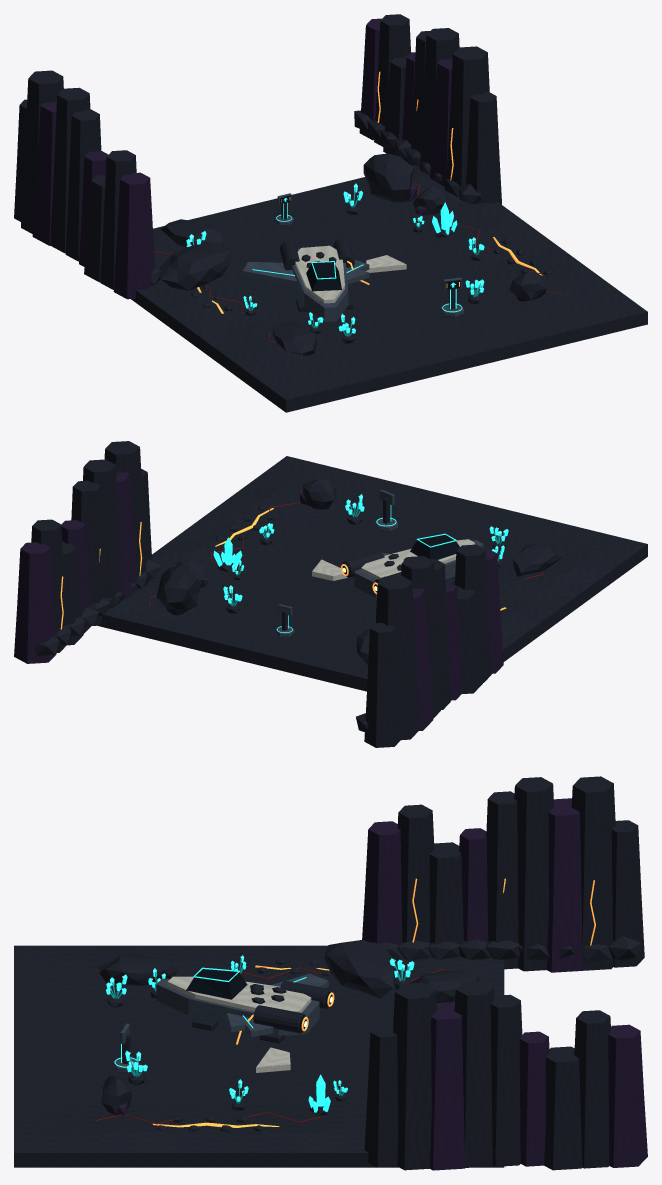
The model's file is 01_Spawn_Layout.fbx.
The picture shows the model from 3 angles, top to bottom: view 1: azimuth 30°, elevation 25°; view 2: azimuth 150°, elevation 25°; view 3: azimuth 270°, elevation 25°; orthographic projection. The views are drawn at different scales.
Parts seen in each view (by area): view 1: VolcanicGround_24m_Placed, CanyonWall_12m_Placed, CanyonWall_12m_Placed.004, CrashedShip_Placed, BasaltRock_B_Placed.001, BasaltRock_A_Placed.002, BasaltRock_B_Placed, BasaltRock_B_Placed.002, BasaltRock_A_Placed, BasaltRock_A_Placed.001, MissionBeacon_Placed; view 2: VolcanicGround_24m_Placed, CanyonWall_12m_Placed, CanyonWall_12m_Placed.004, CrashedShip_Placed, BasaltRock_A_Placed.002, BasaltRock_B_Placed, BasaltRock_A_Placed, MissionBeacon_Placed, CrystalCluster_Cyan_Placed, LavaFissure_8m_Placed.001; view 3: VolcanicGround_24m_Placed, CanyonWall_12m_Placed.004, CanyonWall_12m_Placed, CrashedShip_Placed, BasaltRock_B_Placed.001, BasaltRock_B_Placed, BasaltRock_B_Placed.002, BasaltRock_A_Placed, LavaFissure_8m_Placed.001, MissionBeacon_Placed.
Part boxes in pixels (x1,y1,x2,y2): VolcanicGround_24m_Placed: (131,165,647,412); CanyonWall_12m_Placed: (14,70,160,299); CanyonWall_12m_Placed.004: (354,14,501,204); CrashedShip_Placed: (243,238,406,321); BasaltRock_B_Placed.001: (159,241,232,290); BasaltRock_A_Placed.002: (363,153,417,202); BasaltRock_B_Placed: (272,322,316,355); BasaltRock_B_Placed.002: (161,219,223,247); BasaltRock_A_Placed: (509,271,547,301); BasaltRock_A_Placed.001: (413,185,449,215); MissionBeacon_Placed: (440,277,463,317); VolcanicGround_24m_Placed: (97,456,647,691); CanyonWall_12m_Placed: (356,544,503,747); CanyonWall_12m_Placed.004: (14,441,161,663); CrashedShip_Placed: (312,533,483,597); BasaltRock_A_Placed.002: (156,565,201,615); BasaltRock_B_Placed: (512,543,562,576); BasaltRock_A_Placed: (299,479,336,509); MissionBeacon_Placed: (375,489,397,531); CrystalCluster_Cyan_Placed: (213,537,242,572); LavaFissure_8m_Placed.001: (215,505,274,546); VolcanicGround_24m_Placed: (14,945,504,1167); CanyonWall_12m_Placed.004: (364,980,647,1170); CanyonWall_12m_Placed: (362,776,644,972); CrashedShip_Placed: (156,967,334,1072); BasaltRock_B_Placed.001: (324,940,395,998); BasaltRock_B_Placed: (98,955,177,985); BasaltRock_B_Placed.002: (410,970,479,1002); BasaltRock_A_Placed: (101,1075,131,1115); LavaFissure_8m_Placed.001: (152,1116,279,1132); MissionBeacon_Placed: (112,1023,139,1073).
Bounding box in the file's own units: 2587 × 3103 × 977.
Materials: 1 (1 with a texture image).
